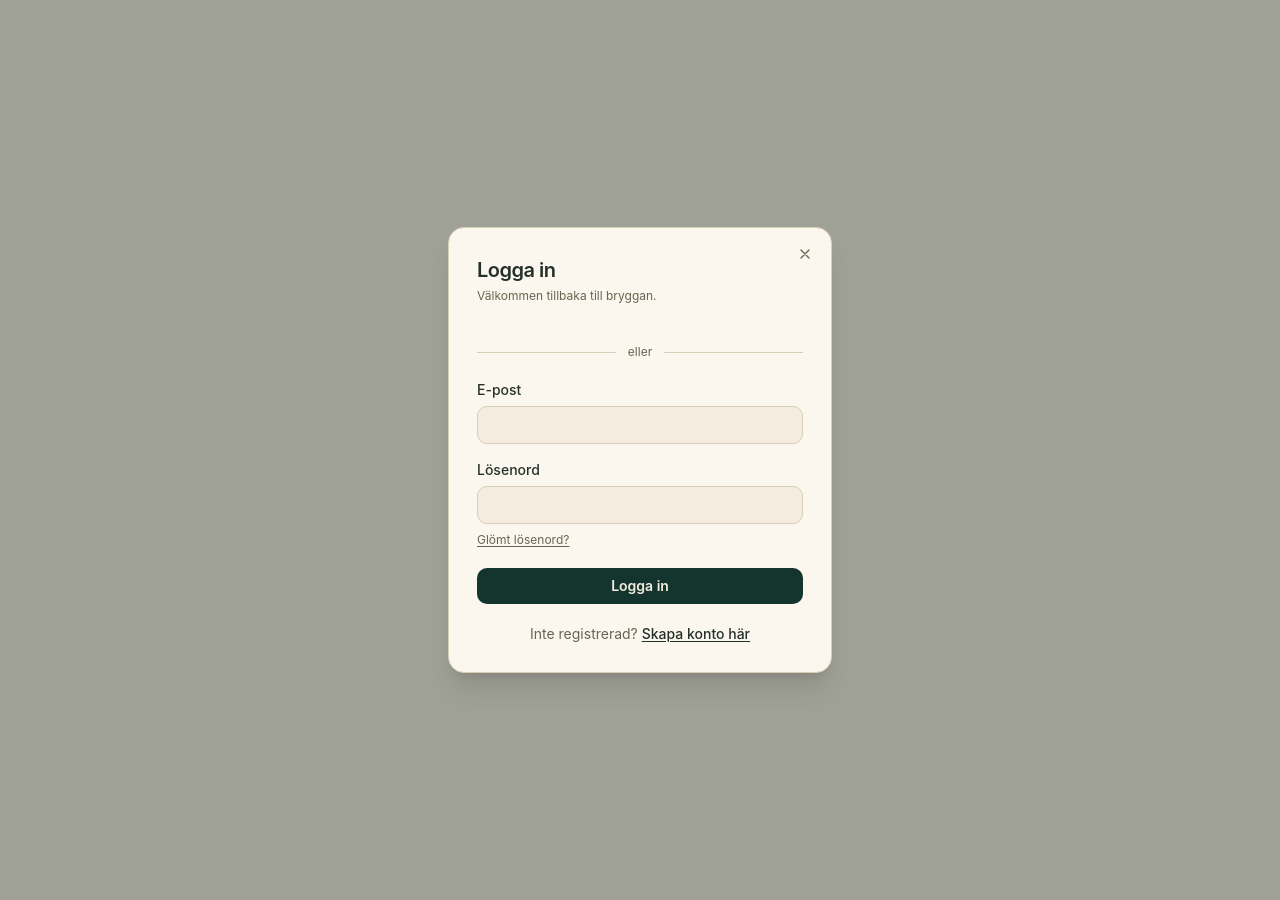
Test: AuthDialog — email verification › other login errors keep the generic path (regression)
The width and height of the screenshot is (1280, 900).
Type "anna@example.com" into the field labelled "E-post". click: (640, 425)
box: [477,406,803,444]
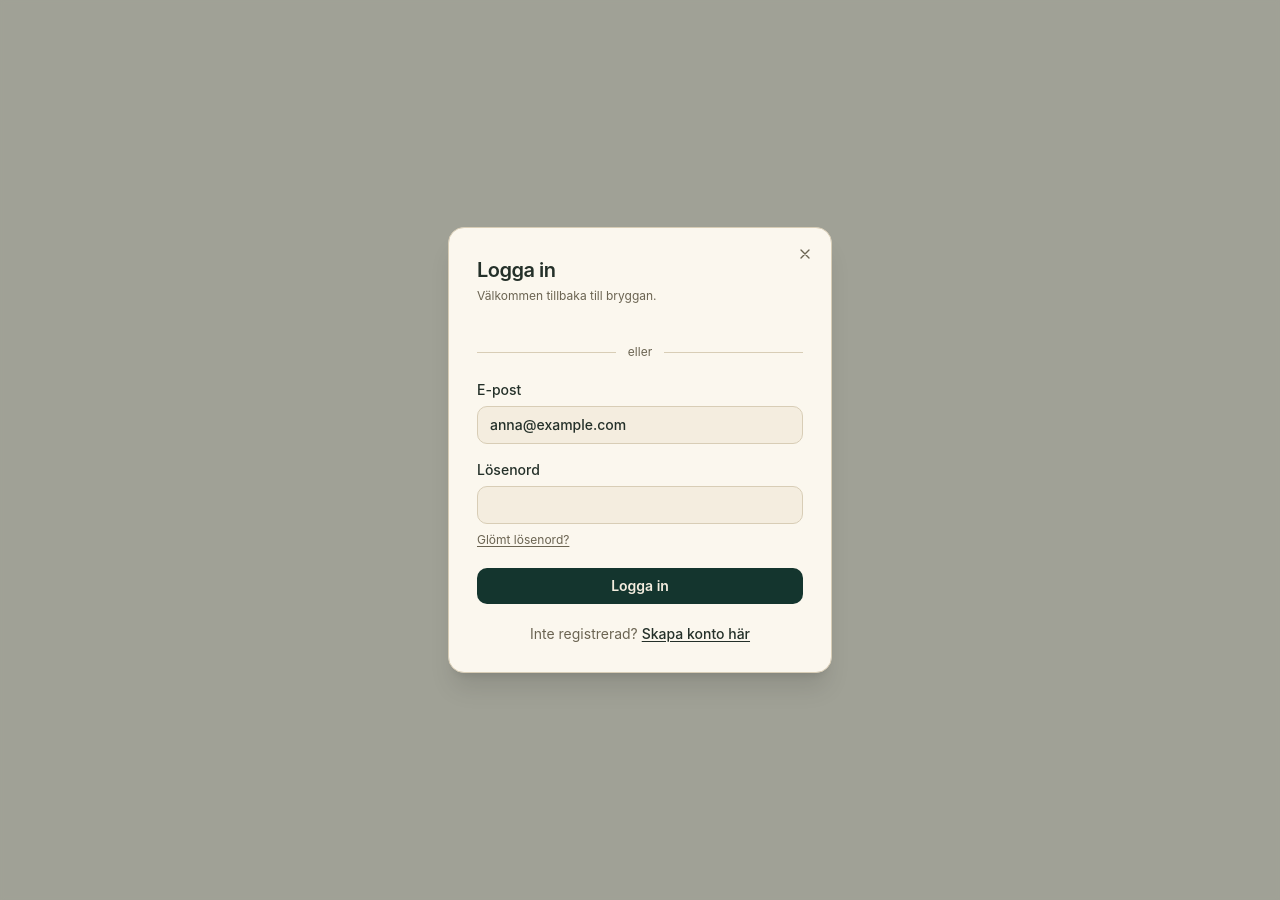
Type "password123" into the password field labelled "Lösenord". click: (640, 505)
box: [477,486,803,524]
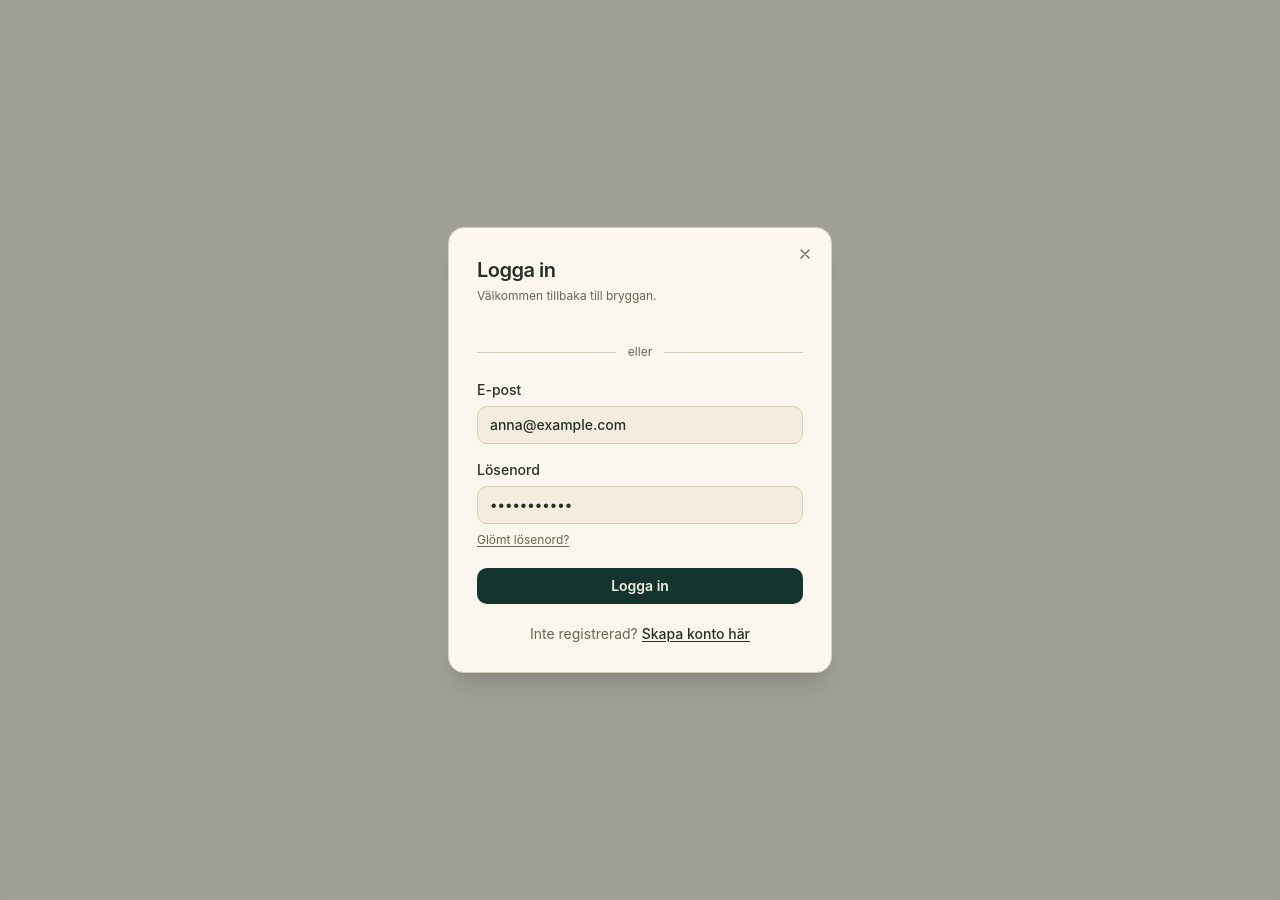
Submit the form from the button "Logga in", box [477,568,803,604]
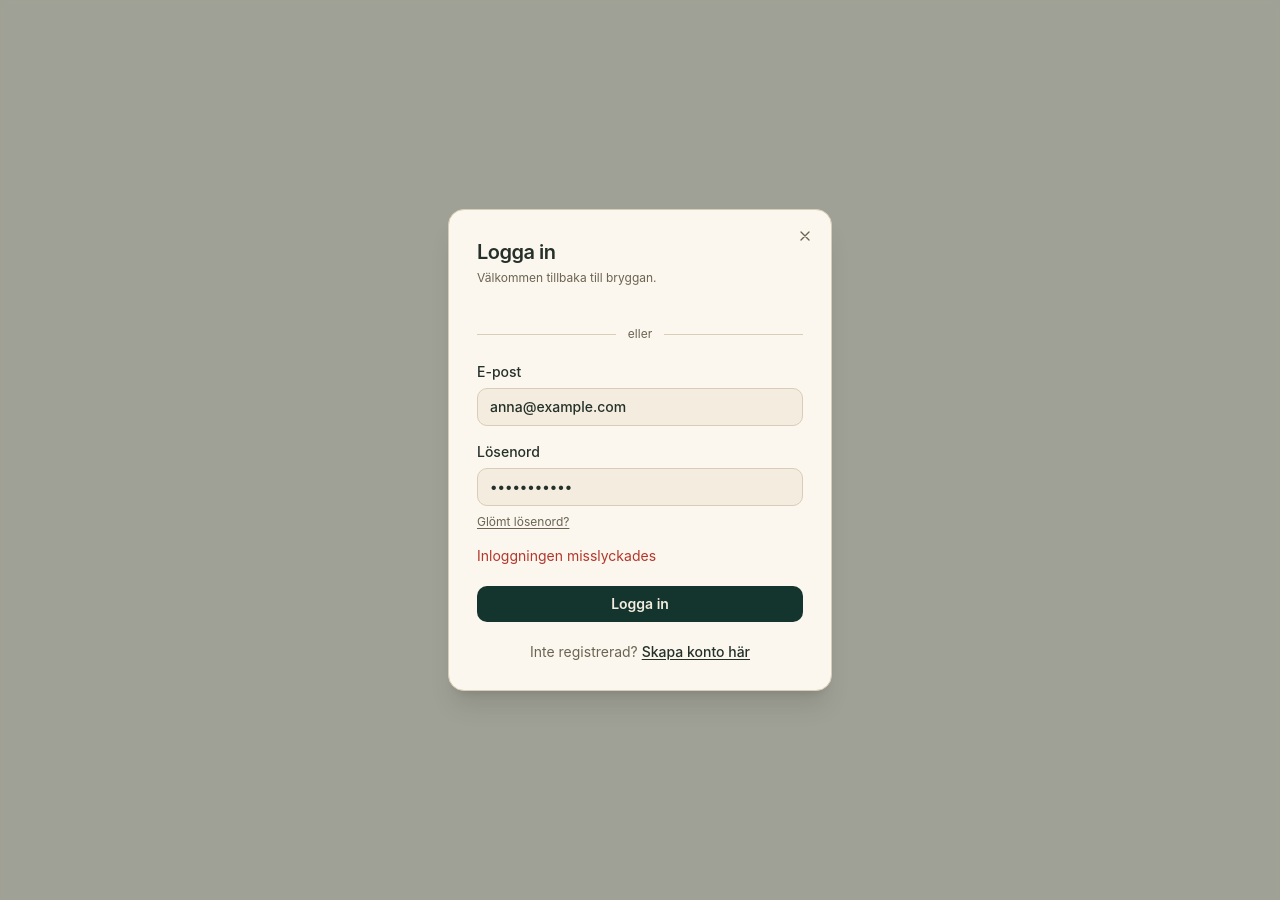
Now the message reads "Inloggningen misslyckades", box [477,547,656,564]
